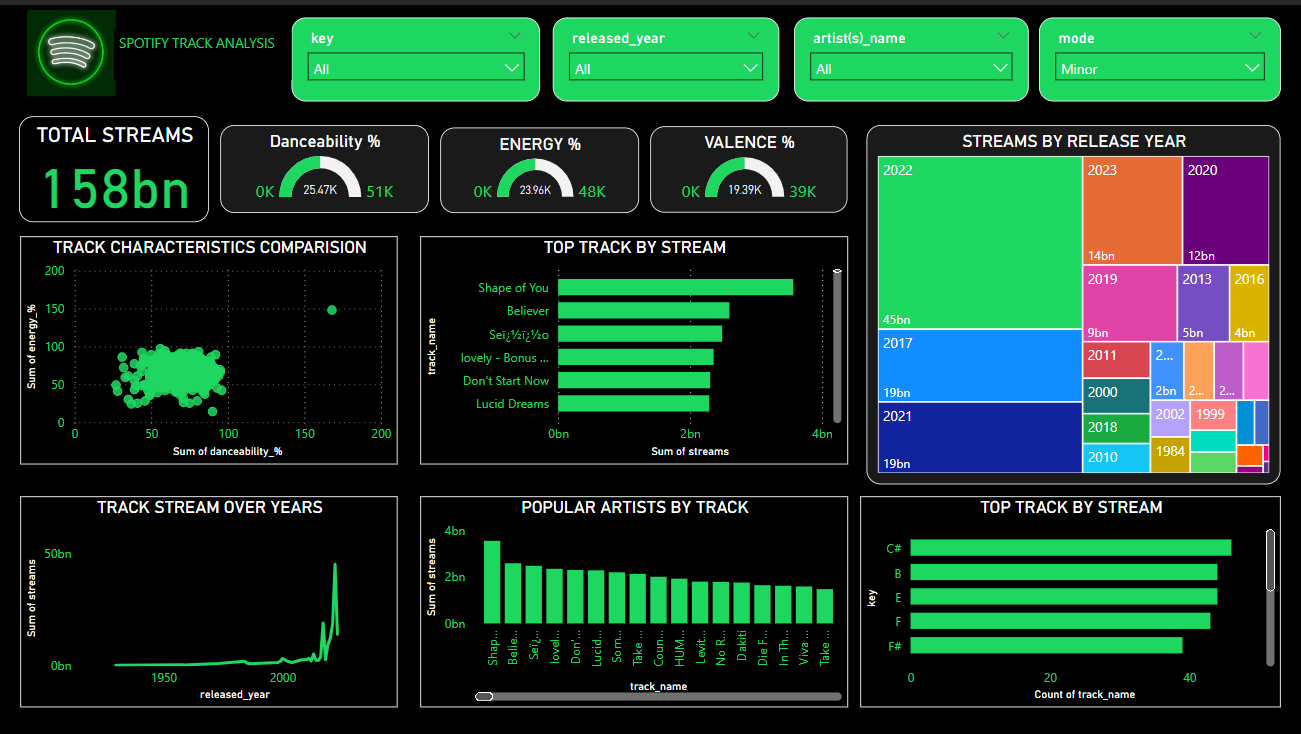

What the dashboard file says about the page in this screenshot:
{"tool":"powerbi","page":{"name":"Page 1","canvas":[1280,720],"ordinal":0},"visuals":[{"type":"slicer","fields":{"Values":["spotify-2023.key"]},"box":[286.8,12.3,244.3,82.3],"z":0},{"type":"slicer","fields":{"Values":["spotify-2023.released_year"]},"box":[543.4,12.3,222.3,82.3],"z":1},{"type":"slicer","fields":{"Values":["spotify-2023.artist(s)_name"]},"box":[780.8,12.3,230.5,82.3],"z":2},{"type":"slicer","fields":{"Values":["spotify-2023.mode"]},"box":[1020.9,12.3,237.4,82.3],"z":3},{"type":"card","title":"TOTAL STREAMS","fields":{"Values":["Sum(spotify-2023.streams)"]},"box":[19.2,109.8,186.6,104.3],"z":4},{"type":"gauge","title":"Danceability %","fields":{"Y":["Sum(spotify-2023.danceability_%)"]},"box":[216.8,118,204.5,86.4],"z":5},{"type":"gauge","title":"ENERGY %","fields":{"Y":["Sum(spotify-2023.energy_%)"]},"box":[433.6,120.8,194.9,83.7],"z":6},{"type":"gauge","title":"VALENCE %","fields":{"Y":["Sum(spotify-2023.valence_%)"]},"box":[639.5,119.4,193.5,85.1],"z":7},{"type":"treemap","title":"STREAMS BY RELEASE YEAR","fields":{"Group":["spotify-2023.released_year"],"Values":["Sum(spotify-2023.streams)"]},"box":[852.1,118,406.2,352.7],"z":8},{"type":"scatterChart","title":"TRACK CHARACTERISTICS COMPARISION","fields":{"Category":["spotify-2023.streams"],"X":["Sum(spotify-2023.danceability_%)"],"Y":["Sum(spotify-2023.energy_%)"]},"box":[20.6,226.4,370.5,223.7],"z":9},{"type":"clusteredBarChart","title":"TOP TRACK BY STREAM","fields":{"Category":["spotify-2023.track_name"],"Y":["Sum(spotify-2023.streams)"]},"box":[413,226.4,419.9,223.7],"z":10},{"type":"lineChart","title":"TRACK STREAM OVER YEARS","fields":{"Category":["spotify-2023.released_year"],"Y":["Sum(spotify-2023.streams)"]},"box":[20.6,481.6,370.5,207.2],"z":11},{"type":"columnChart","title":"POPULAR ARTISTS BY TRACK","fields":{"Category":["spotify-2023.track_name"],"Y":["Sum(spotify-2023.streams)"]},"box":[413,482,420,207],"z":12},{"type":"clusteredBarChart","title":"TOP TRACK BY STREAM","fields":{"Category":["spotify-2023.key"],"Y":["CountNonNull(spotify-2023.track_name)"]},"box":[845.3,481.6,413,207.2],"z":13},{"type":"image","box":[19.2,0,102.9,94.7],"z":14},{"type":"textbox","box":[112.5,23.3,174.3,50.8],"z":15}]}

Visuals, with their boxes in screenshot pixels (x1, y1, x2, y2), scaled from the page's 1280x720 canvas onto the 1301x734 screenshot:
slicer - spotify-2023.key: detection(292, 13, 540, 96)
slicer - spotify-2023.released_year: detection(552, 13, 778, 96)
slicer - spotify-2023.artist(s)_name: detection(794, 13, 1028, 96)
slicer - spotify-2023.mode: detection(1038, 13, 1279, 96)
"TOTAL STREAMS" card: detection(20, 112, 209, 218)
"Danceability %" gauge: detection(220, 120, 428, 208)
"ENERGY %" gauge: detection(441, 123, 639, 208)
"VALENCE %" gauge: detection(650, 122, 847, 208)
"STREAMS BY RELEASE YEAR" treemap: detection(866, 120, 1279, 480)
"TRACK CHARACTERISTICS COMPARISION" scatterChart: detection(21, 231, 398, 459)
"TOP TRACK BY STREAM" clusteredBarChart: detection(420, 231, 847, 459)
"TRACK STREAM OVER YEARS" lineChart: detection(21, 491, 398, 702)
"POPULAR ARTISTS BY TRACK" columnChart: detection(420, 491, 847, 702)
"TOP TRACK BY STREAM" clusteredBarChart: detection(859, 491, 1279, 702)
image: detection(20, 0, 124, 97)
textbox: detection(114, 24, 292, 76)
